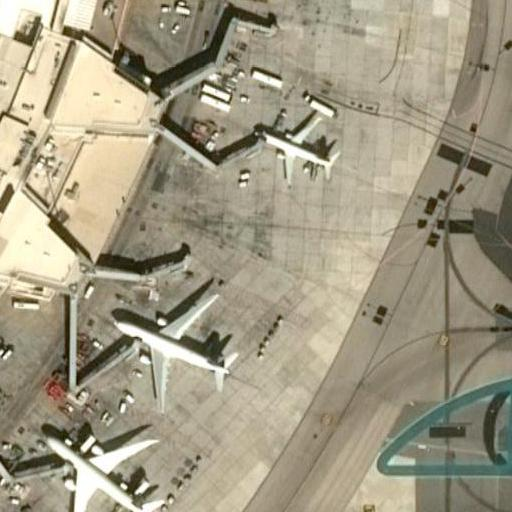Aircraft: (115, 299, 245, 404), (43, 421, 167, 512), (253, 107, 339, 182), (0, 510, 63, 512)
